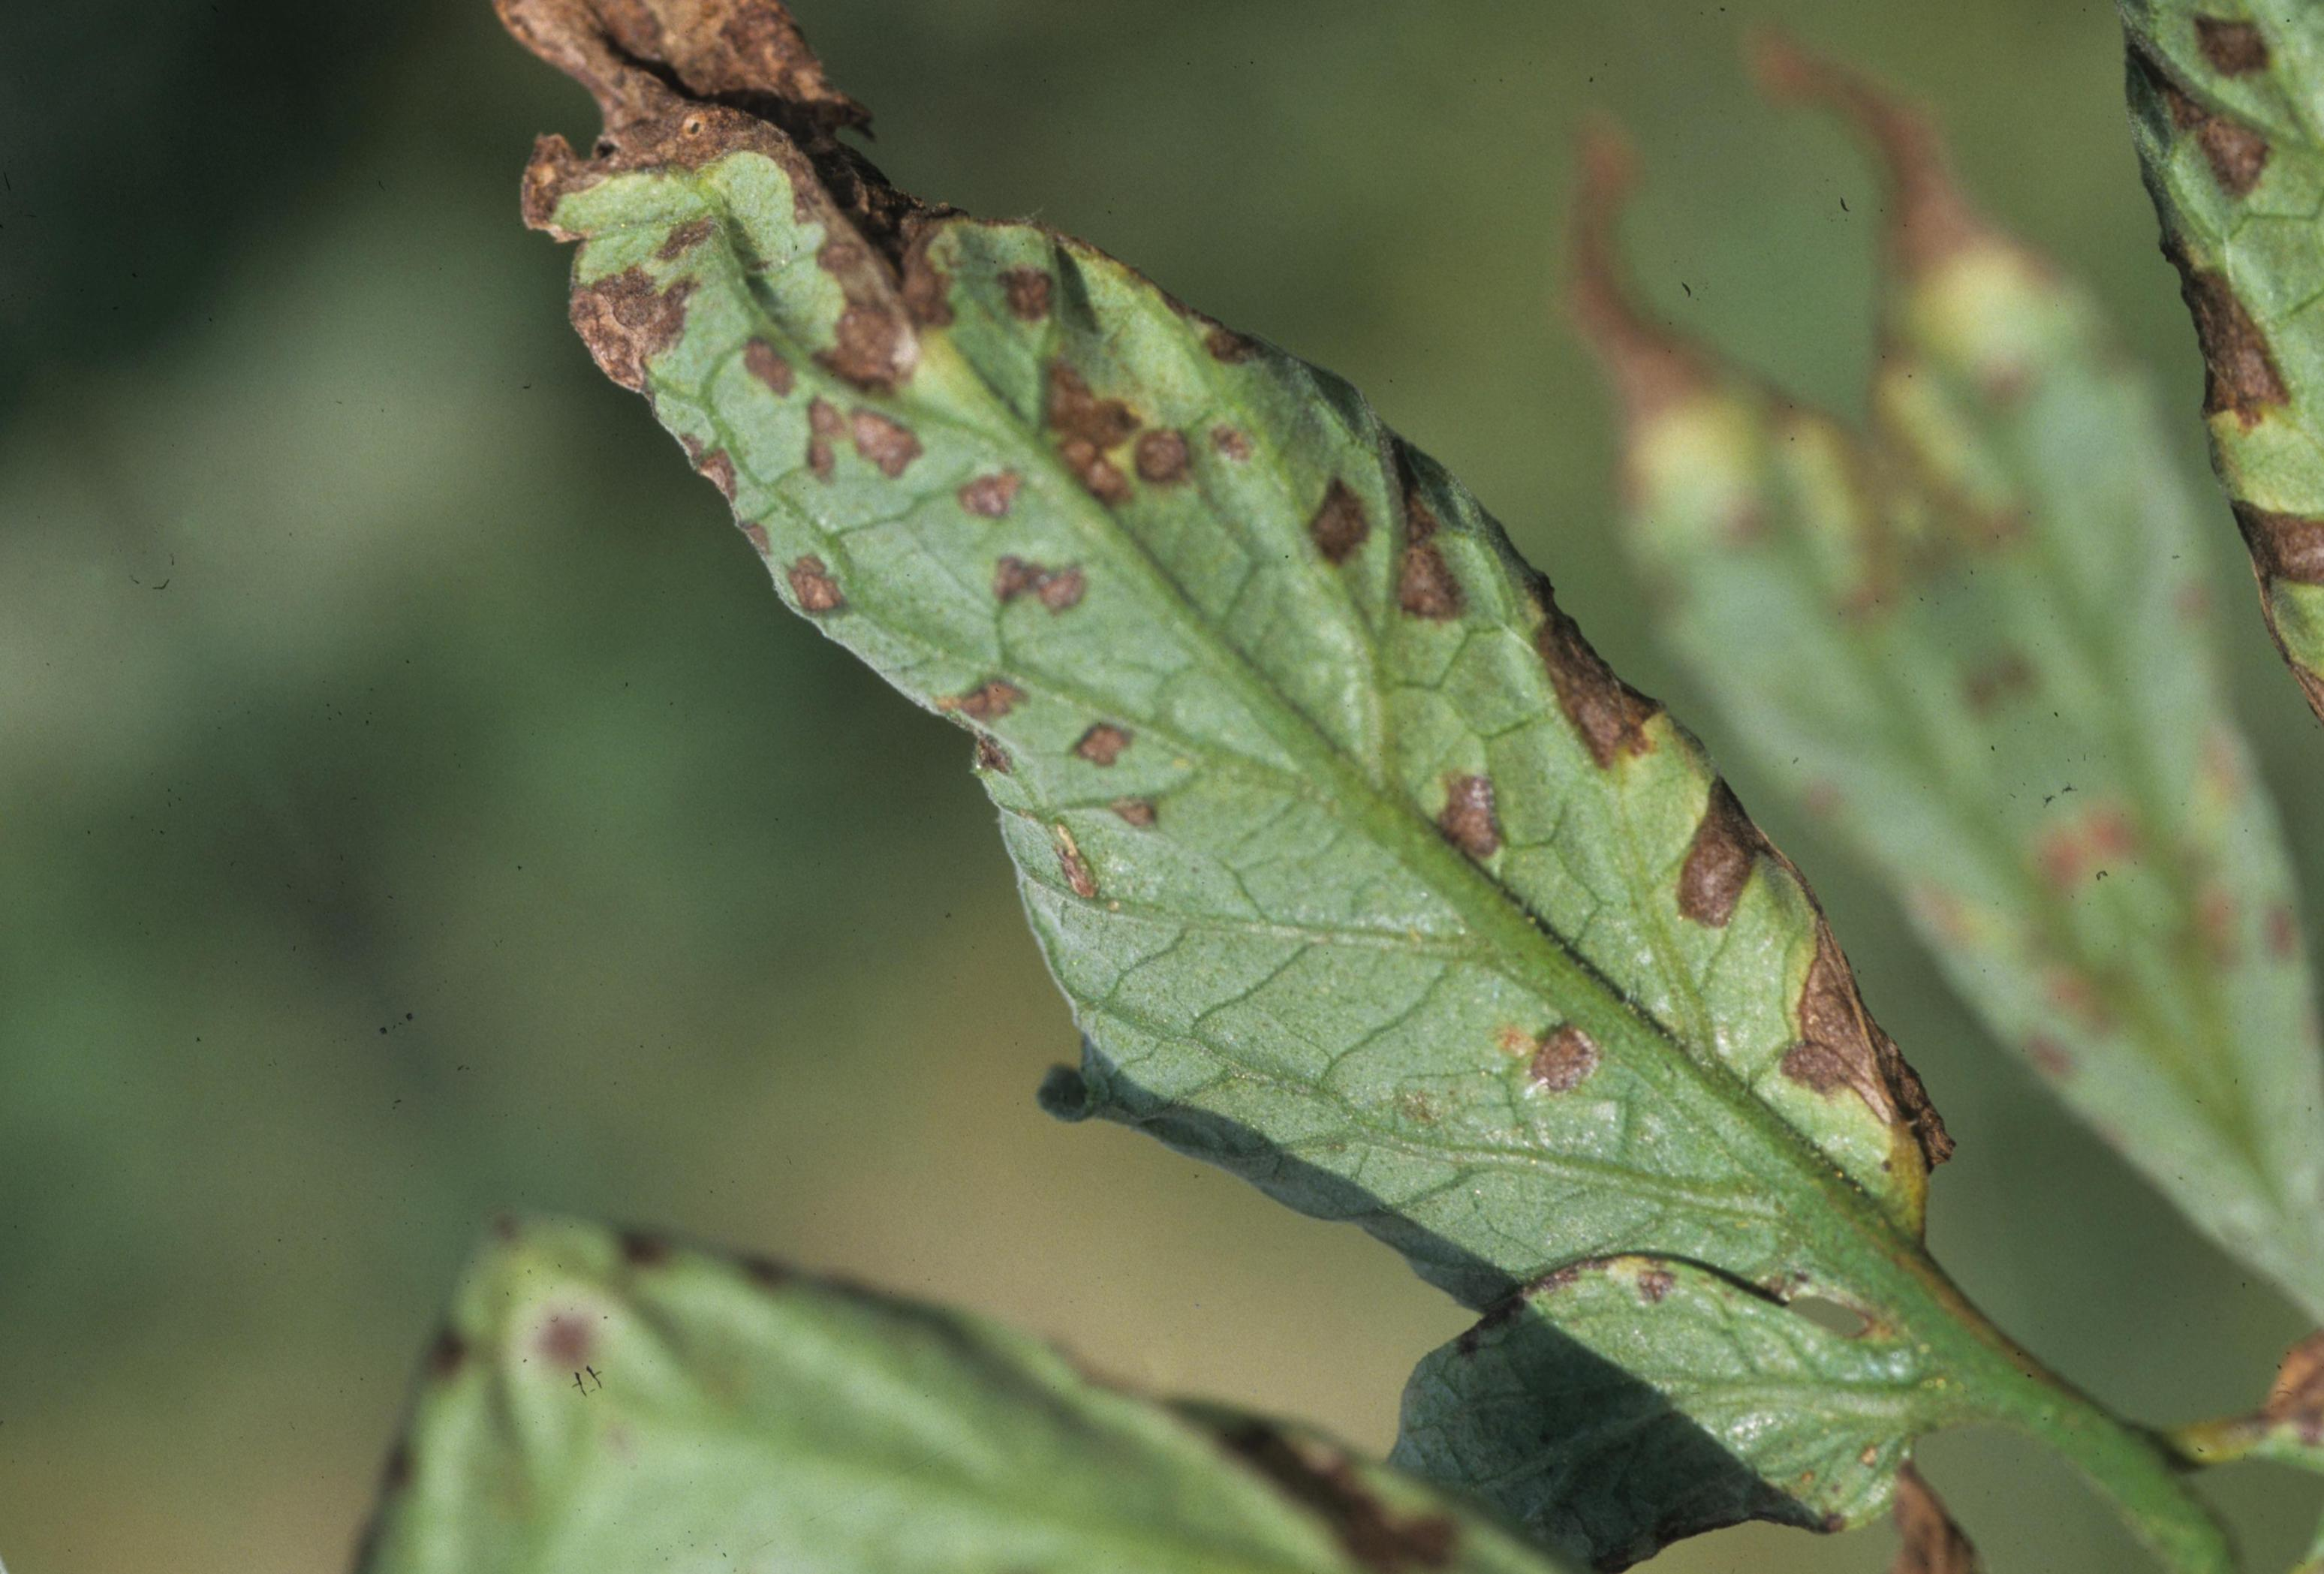Tomato leaf bacterial spot: (332, 0, 2157, 1574)
